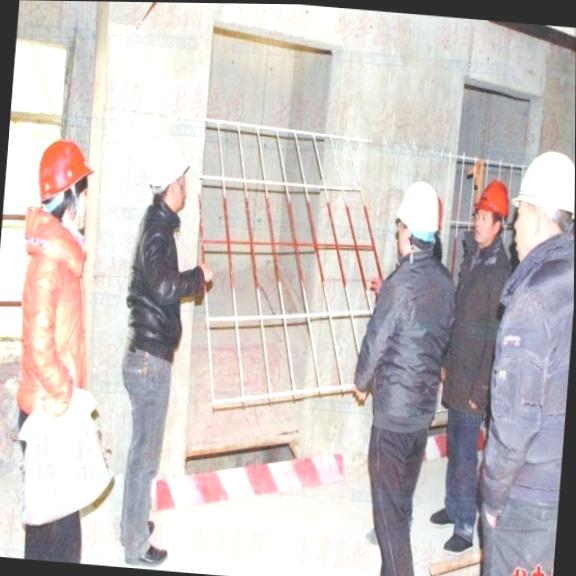no_safety_vest: (485, 230, 574, 504), (14, 219, 97, 409), (381, 266, 450, 430), (129, 203, 195, 356), (447, 246, 503, 409)
